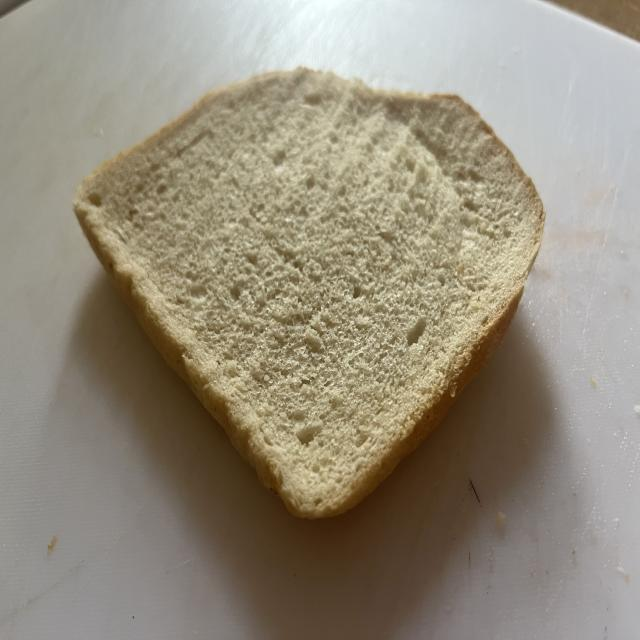sliced_bread: (74, 69, 544, 518)
